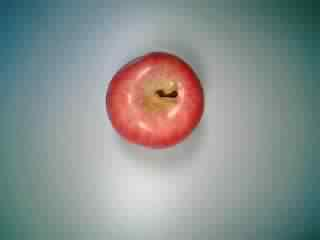apple: (104, 49, 208, 153)
